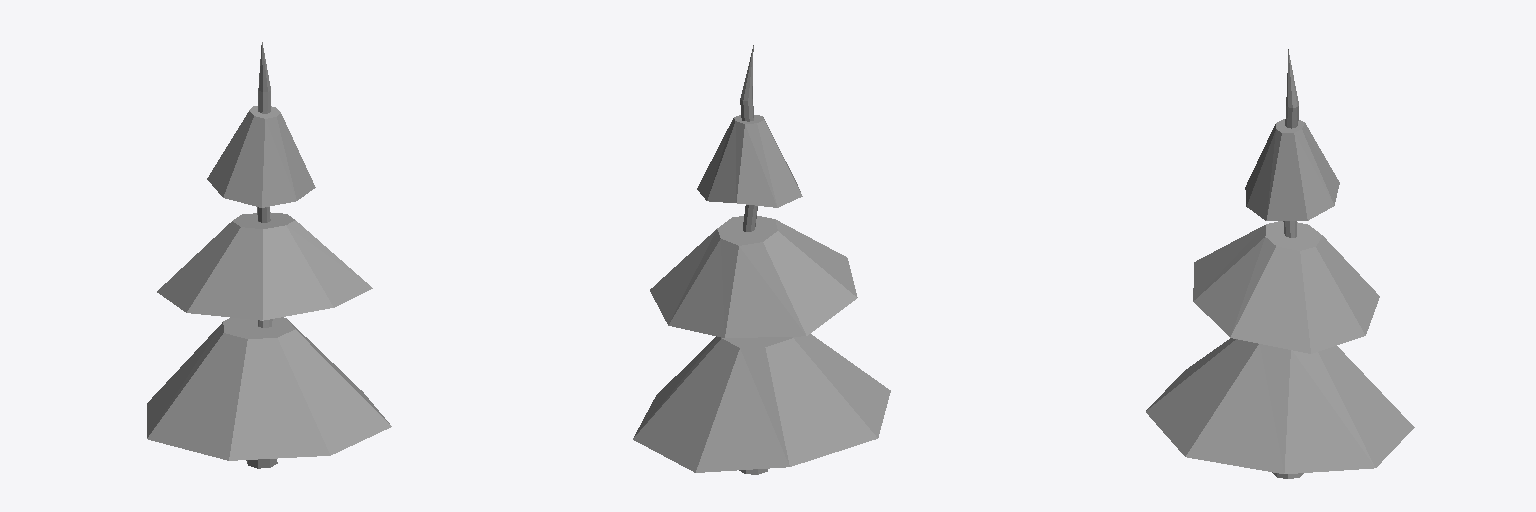
Rendered from tree01.obj.
3 views of the same model, side by side, from view 1: azimuth 30°, elevation 25°; view 2: azimuth 150°, elevation 25°; view 3: azimuth 270°, elevation 25° (orthographic).
Visible parts, largest first — view 1: Cylinder.001_Cylinder.001, Cube.003; view 2: Cylinder.001_Cylinder.001, Cube.003; view 3: Cylinder.001_Cylinder.001, Cube.003.
Boxes of the visible parts, x1,y1,x2,y2 form: Cylinder.001_Cylinder.001: [147, 106, 391, 460]; Cube.003: [246, 42, 277, 468]; Cylinder.001_Cylinder.001: [633, 115, 890, 472]; Cube.003: [739, 45, 767, 474]; Cylinder.001_Cylinder.001: [1146, 119, 1414, 473]; Cube.003: [1272, 49, 1303, 478].
Bounding box in the file's own units: 5.9 × 10.88 × 6.28.